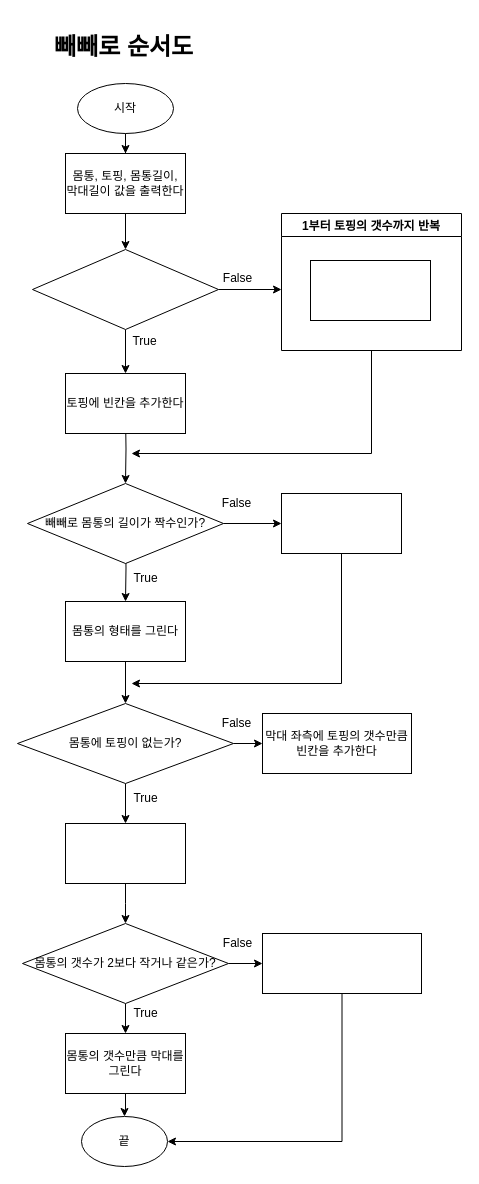
The diagram is 479 pixels wide and 1184 high, and some of its shapes have lost their labels. Here are the shapes that lost their labels. From the top down, the centre of each, then its label:
At (x=125, y=289): "토핑의 갯수가 1보다 작은가?".
At (x=370, y=290): "빈칸에 빈칸을 추가한다".
At (x=341, y=523): "몸통의 형태를 반대로 그린다".
At (x=125, y=853): "막대의 좌측 빈칸을 한개 추가한다".
At (x=342, y=963): "몸통의 가운데를 공백으로 두고 막대를 그린다".
